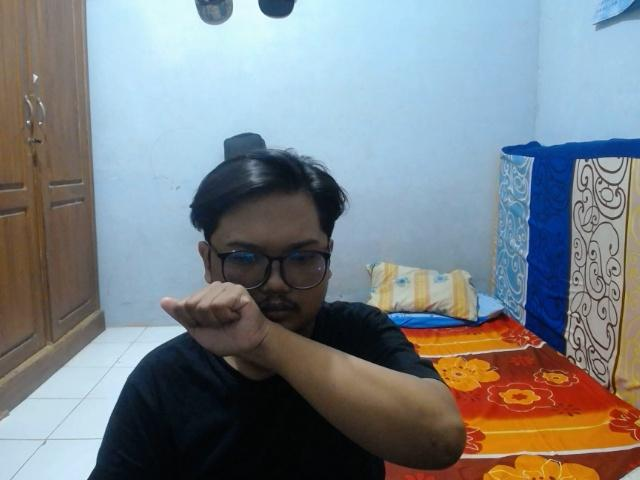Grab: (158, 277, 272, 364)
